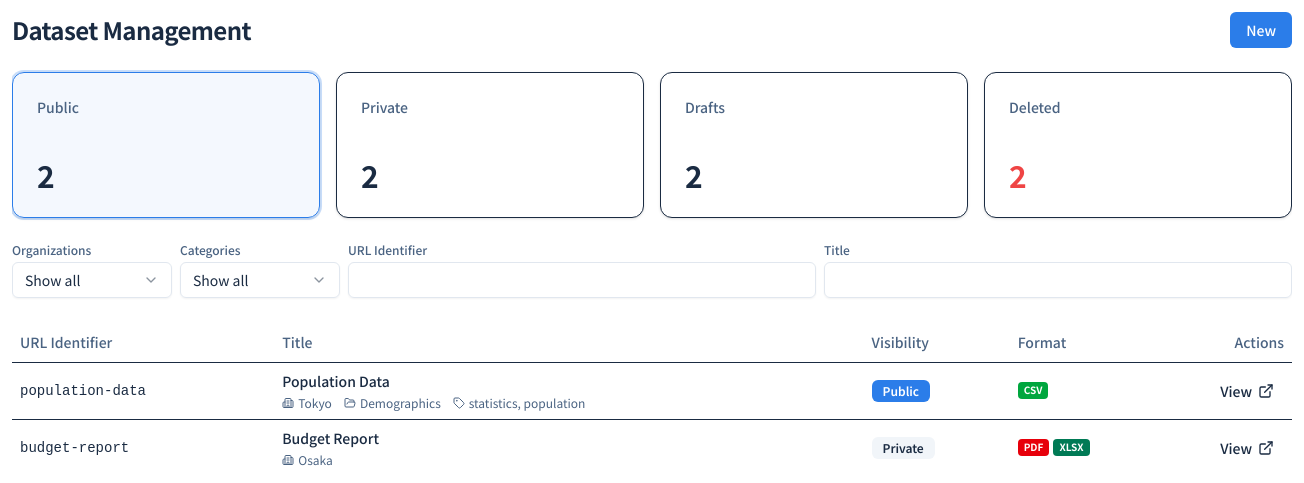
it: DatasetsManagePage › should offer only the organizations the viewer may write in as filters
The width and height of the screenshot is (1304, 483).
Expected: the text "population-data" is shown, [12,362,274,419]
Click the dropdown labelled "Show all" below "Organizations" at (92, 280), box [12,262,172,298]
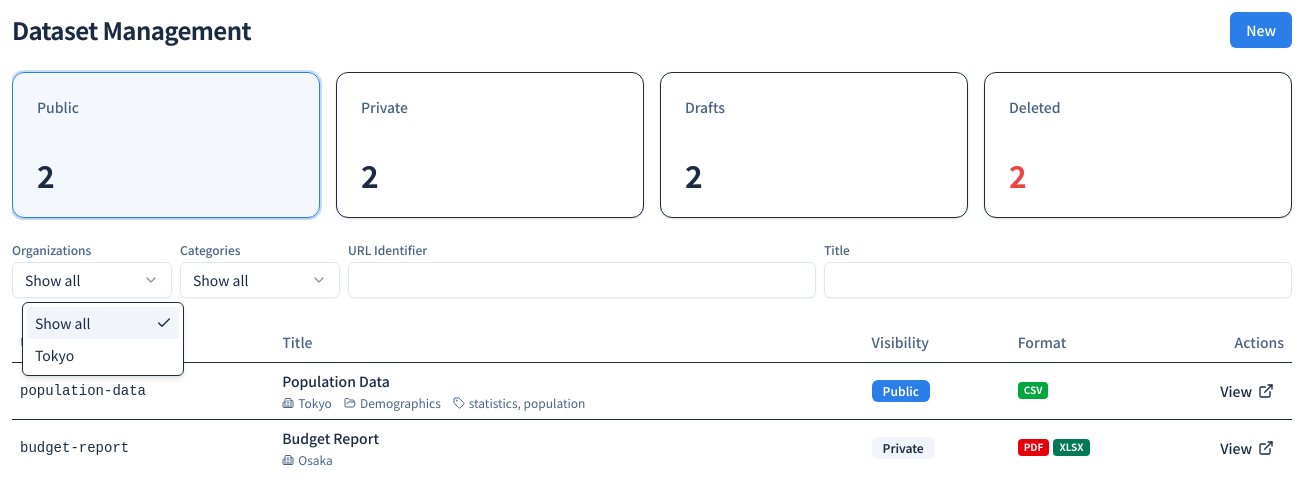
Expected: the option "Tokyo" is shown, [35,345,74,365]
